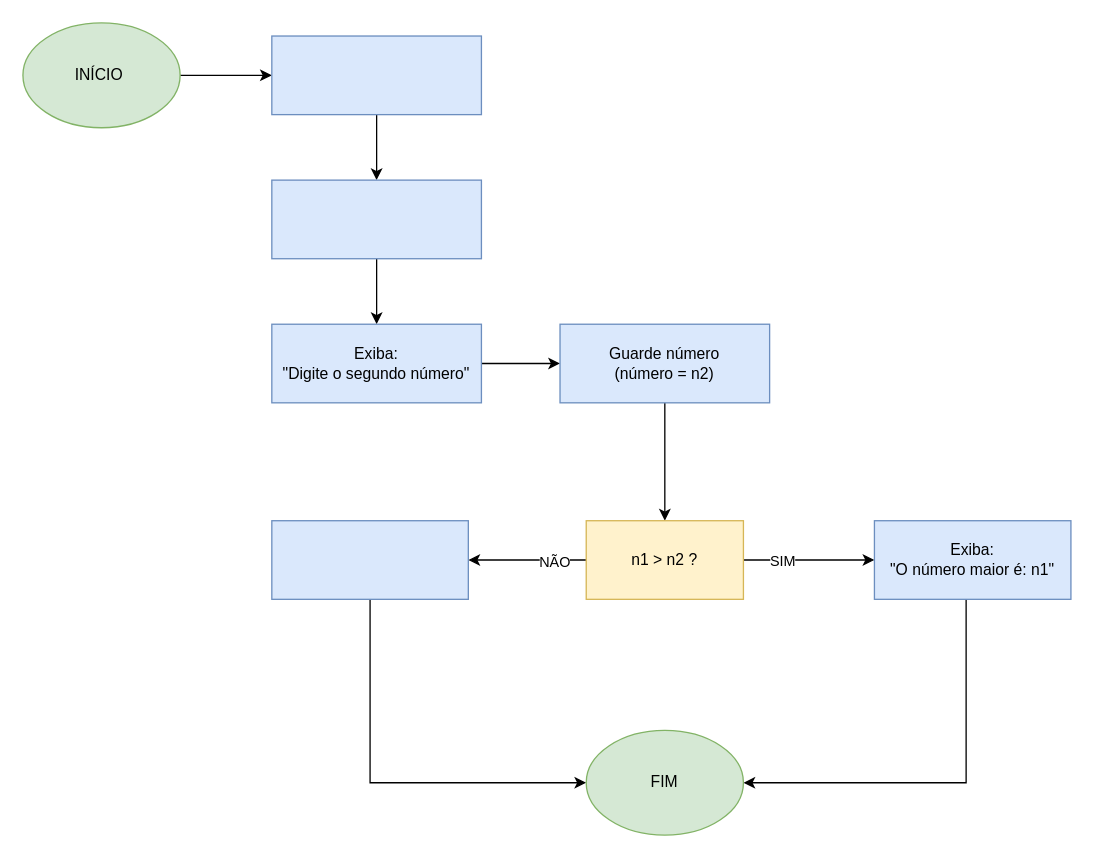
This 1094x858 diagram has some shape labels left out. The shapes that lost their labels are listed below. From the top down, each one's box as (x1, y1, x2, y2) in pixels, then its label:
(271, 35, 481, 115): Exiba: "Digite o primeiro número"
(271, 179, 481, 259): Guarde número (número = n1)
(271, 519, 468, 599): Exiba: "O número maior é: n12
